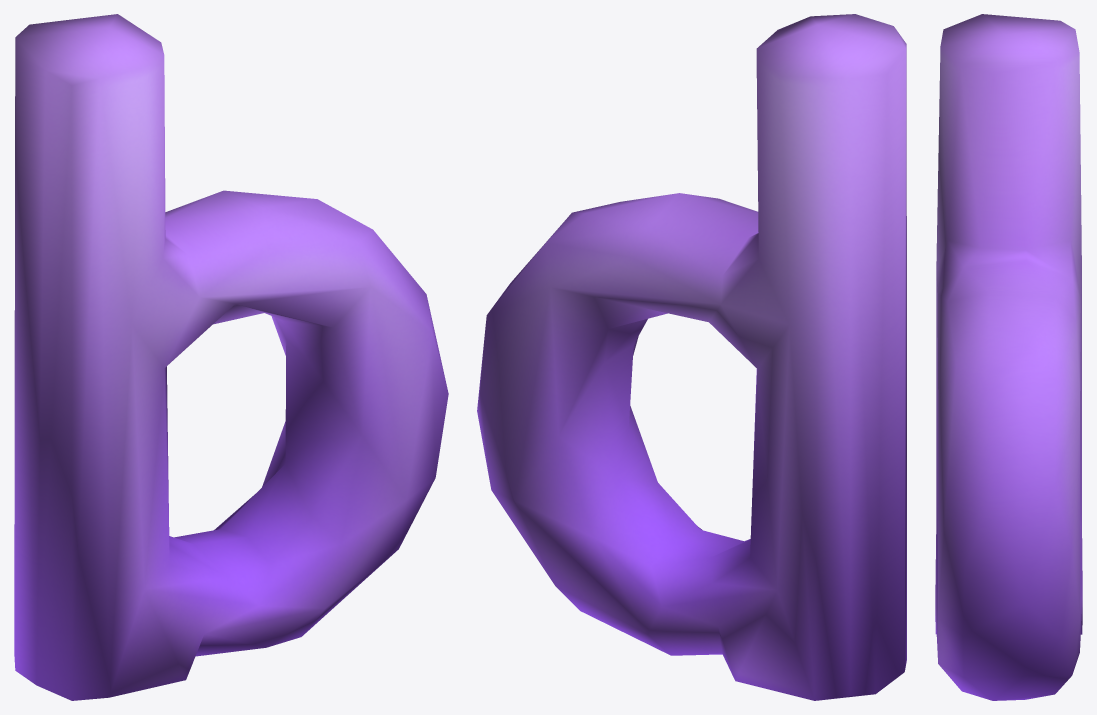
3 views of the same model, side by side, from view 1: azimuth 30°, elevation 25°; view 2: azimuth 150°, elevation 25°; view 3: azimuth 270°, elevation 25° (orthographic). The views are drawn at different scales.
Visible parts, largest first — view 1: Processed_Mesh0_Geometry; view 2: Processed_Mesh0_Geometry; view 3: Processed_Mesh0_Geometry.
Part boxes in pixels (x1,y1,x2,y2): Processed_Mesh0_Geometry: [14, 14, 448, 700]; Processed_Mesh0_Geometry: [477, 14, 906, 700]; Processed_Mesh0_Geometry: [935, 14, 1082, 700].
Size of what is drawn, in the model's own units: 0.0561 by 0.0847 by 0.0191.
Materials: 1 (1 with a texture image).
